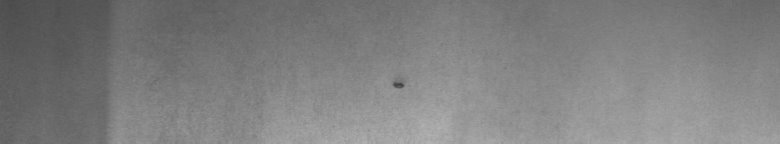fi: (388, 76, 407, 96)
